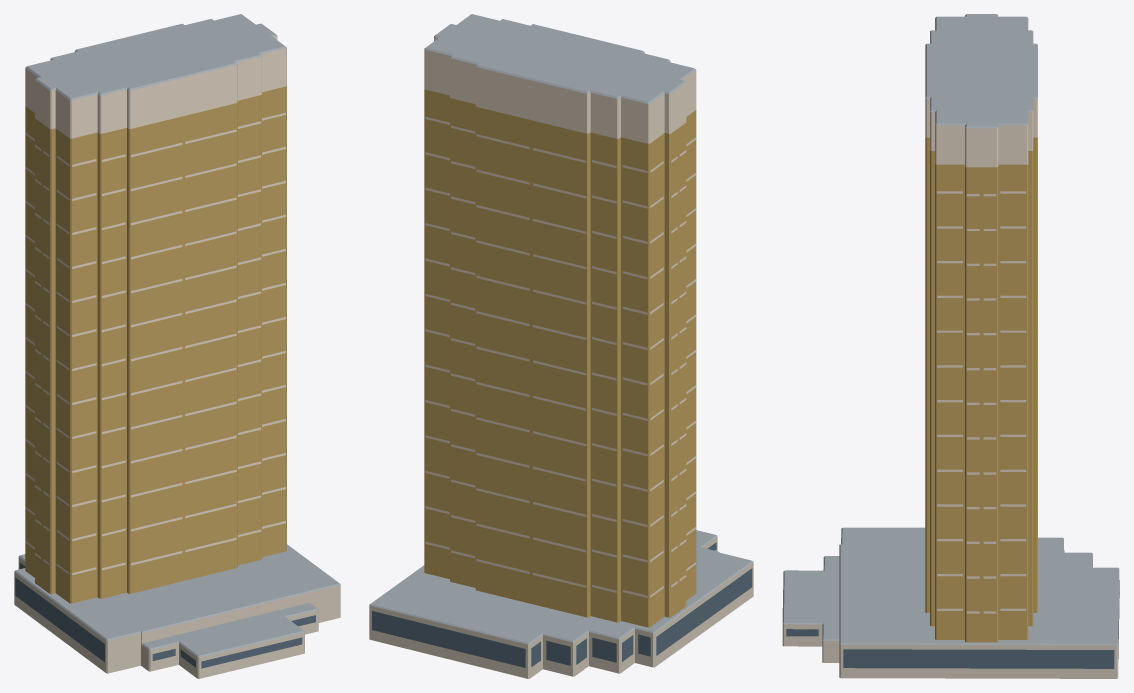
File: lv-trump.glb
3 views of the same model, side by side, from view 1: azimuth 30°, elevation 25°; view 2: azimuth 150°, elevation 25°; view 3: azimuth 270°, elevation 25° (orthographic). The views are drawn at different scales.
Visible parts, largest first — view 1: Trump International Hotel Las Vegas; view 2: Trump International Hotel Las Vegas; view 3: Trump International Hotel Las Vegas.
Part boxes in pixels (x1,y1,x2,y2): Trump International Hotel Las Vegas: (14,14,340,678); Trump International Hotel Las Vegas: (369,14,753,678); Trump International Hotel Las Vegas: (782,14,1119,678).
Bounding box in the file's own units: 86.88 × 190 × 105.
